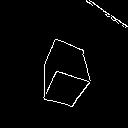cube: (29, 33, 102, 117)
